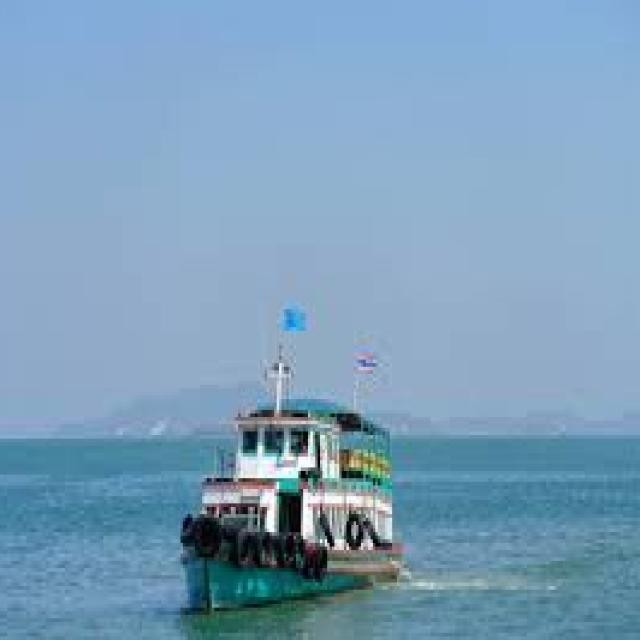fishing boat: (174, 358, 411, 611)
